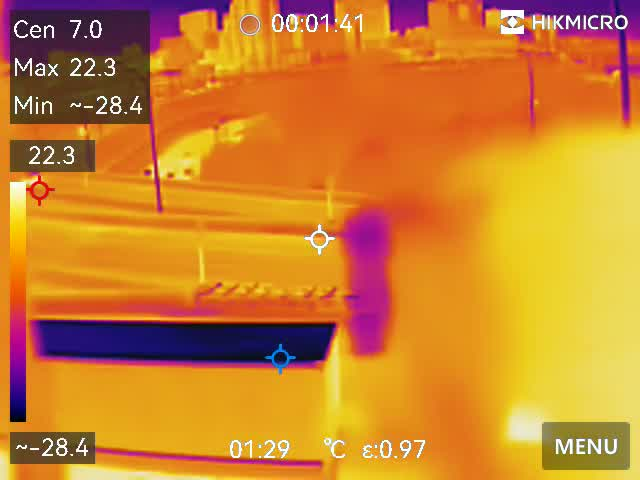heavyTruck: (25, 319, 353, 480)
